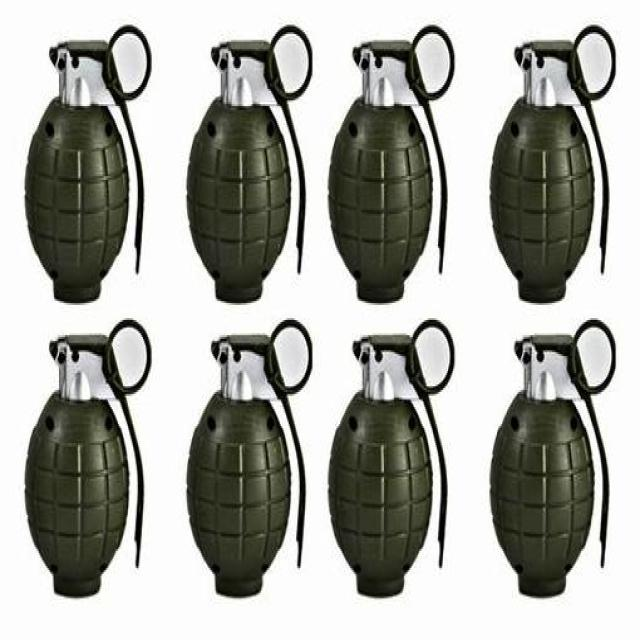grenade: (26, 26, 154, 308), (329, 28, 457, 308), (26, 321, 153, 601), (329, 321, 455, 603), (491, 321, 617, 603), (491, 28, 617, 308), (187, 321, 312, 601), (187, 33, 312, 310)
